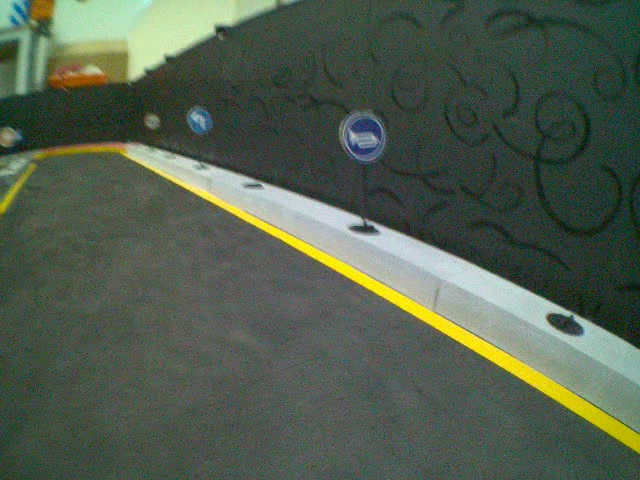horn: (336, 109, 393, 164)
turn: (183, 107, 219, 136)
